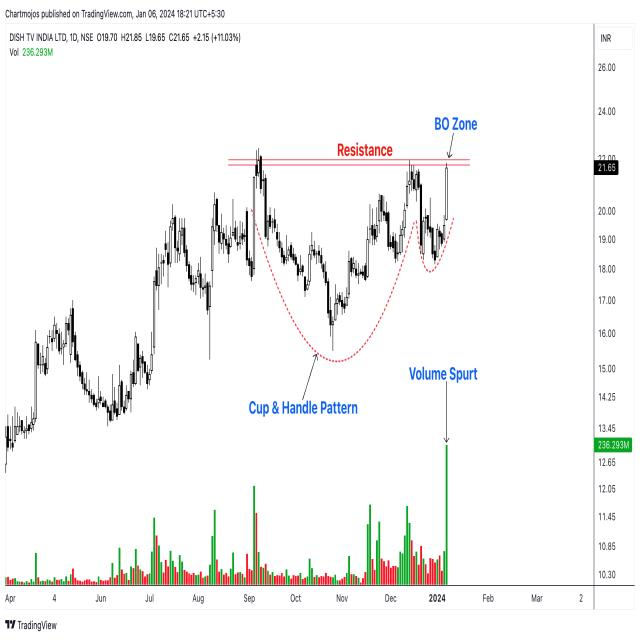Cup-and-handle: (250, 161, 457, 347), (66, 196, 227, 427)
